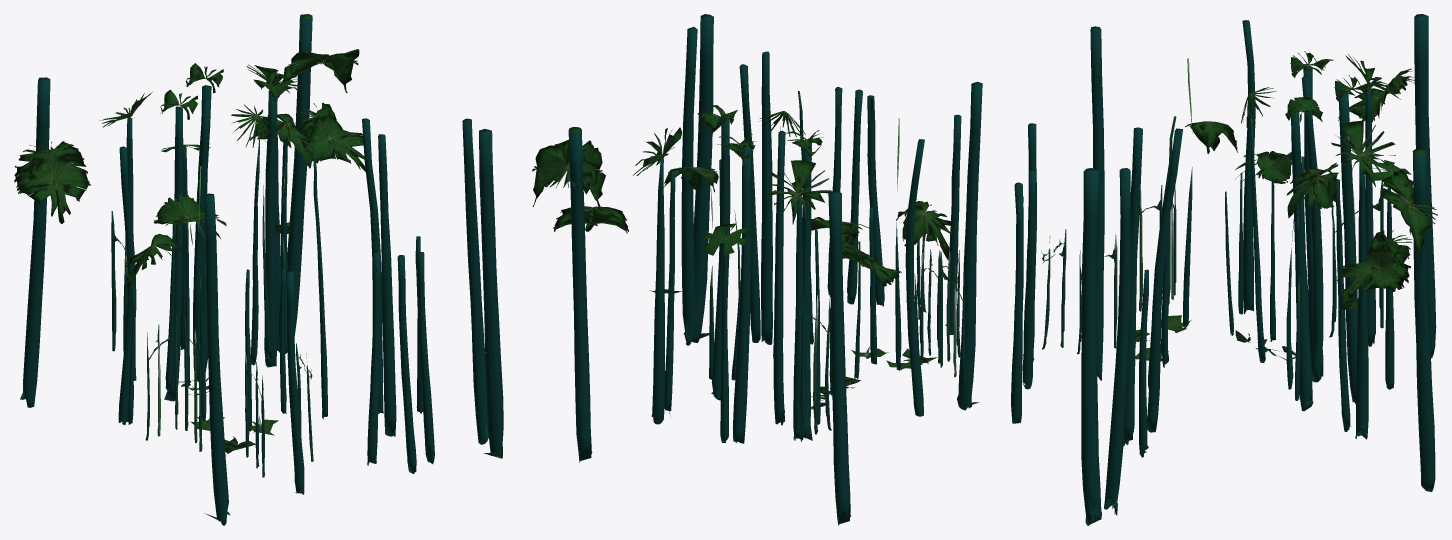
File: bamboo_forest_cluster.glb
3 renders of one model, left to right at view 1: azimuth 30°, elevation 25°; view 2: azimuth 150°, elevation 25°; view 3: azimuth 270°, elevation 25°, orthographic. The views are drawn at different scales.
Visible parts, largest first — view 1: tripo_node_06d51a3d-82dd-406a-827b-2b06ab27e11a; view 2: tripo_node_06d51a3d-82dd-406a-827b-2b06ab27e11a; view 3: tripo_node_06d51a3d-82dd-406a-827b-2b06ab27e11a.
Boxes of the visible parts, x1=… form: tripo_node_06d51a3d-82dd-406a-827b-2b06ab27e11a: x1=14, y1=14, x2=503, y2=525; tripo_node_06d51a3d-82dd-406a-827b-2b06ab27e11a: x1=532, y1=14, x2=982, y2=525; tripo_node_06d51a3d-82dd-406a-827b-2b06ab27e11a: x1=1011, y1=14, x2=1437, y2=525.
Bounding box in the file's own units: 0.998 × 0.918 × 0.998.
1 material, 1 textured.
